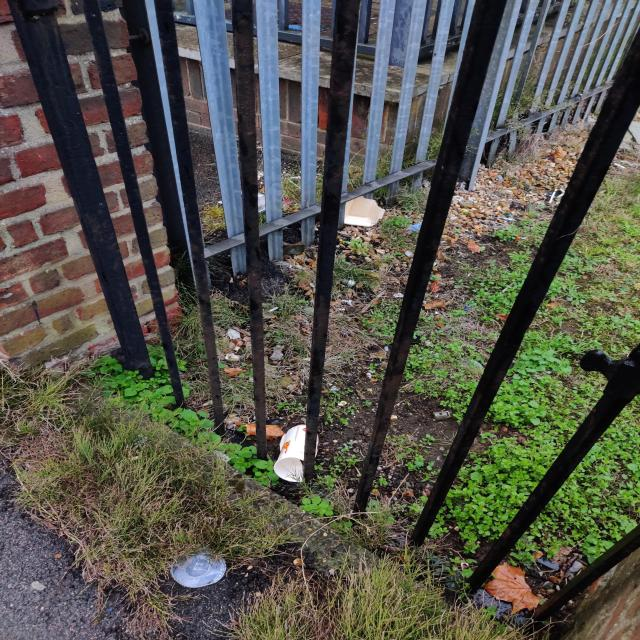litter: (271, 424, 319, 483), (168, 545, 230, 588), (342, 195, 388, 229)
